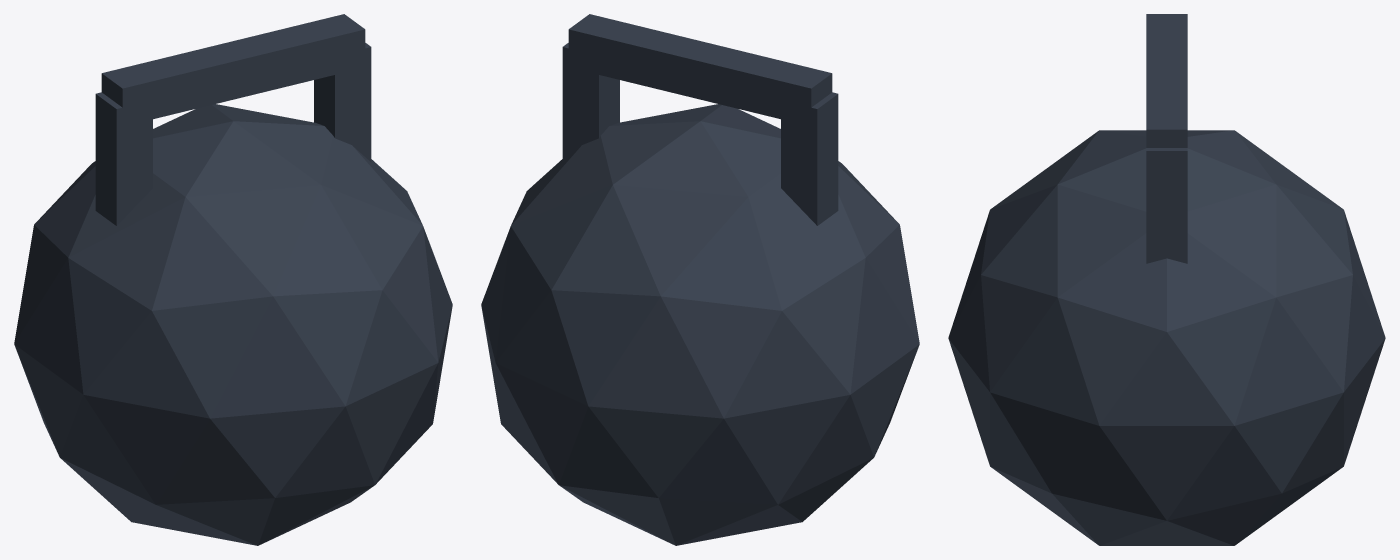
Rendered from Boxing_Kettlebell.fbx.
3 renders of one model, left to right at view 1: azimuth 30°, elevation 25°; view 2: azimuth 150°, elevation 25°; view 3: azimuth 270°, elevation 25°, orthographic. The views are drawn at different scales.
Visible parts, largest first — view 1: Kettlebell; view 2: Kettlebell; view 3: Kettlebell.
Boxes of the visible parts, bbox=[...] form: Kettlebell: bbox=[14, 14, 452, 545]; Kettlebell: bbox=[481, 14, 919, 545]; Kettlebell: bbox=[948, 14, 1385, 545].
Size of the model in its own units: 0.3043 by 0.375 by 0.32.
